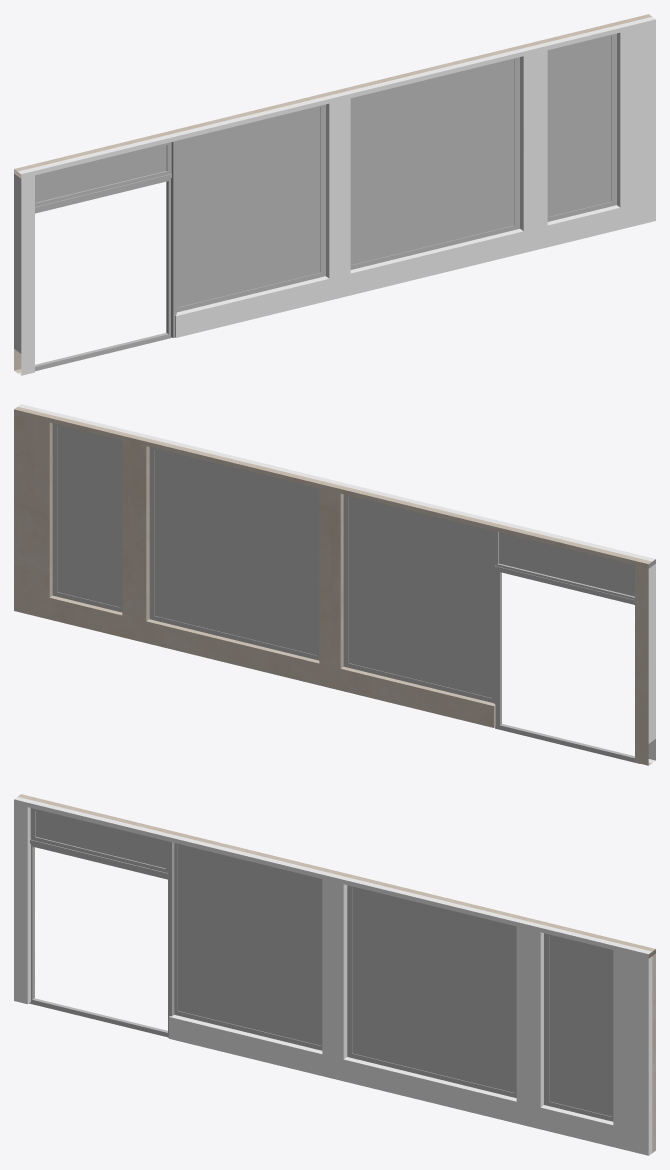
File: shop_f_mart_m.fbx
3 renders of one model, top to bottom at view 1: azimuth 30°, elevation 25°; view 2: azimuth 150°, elevation 25°; view 3: azimuth 330°, elevation 25°, orthographic.
Visible parts, largest first — view 1: shop_f_mart_m; view 2: shop_f_mart_m; view 3: shop_f_mart_m.
Boxes of the visible parts, x1,y1,x2,y2 form: shop_f_mart_m: [14, 14, 655, 375]; shop_f_mart_m: [14, 404, 655, 765]; shop_f_mart_m: [14, 794, 655, 1155].
Size of the model in its own units: 10.88 by 3.34 by 0.2128.
